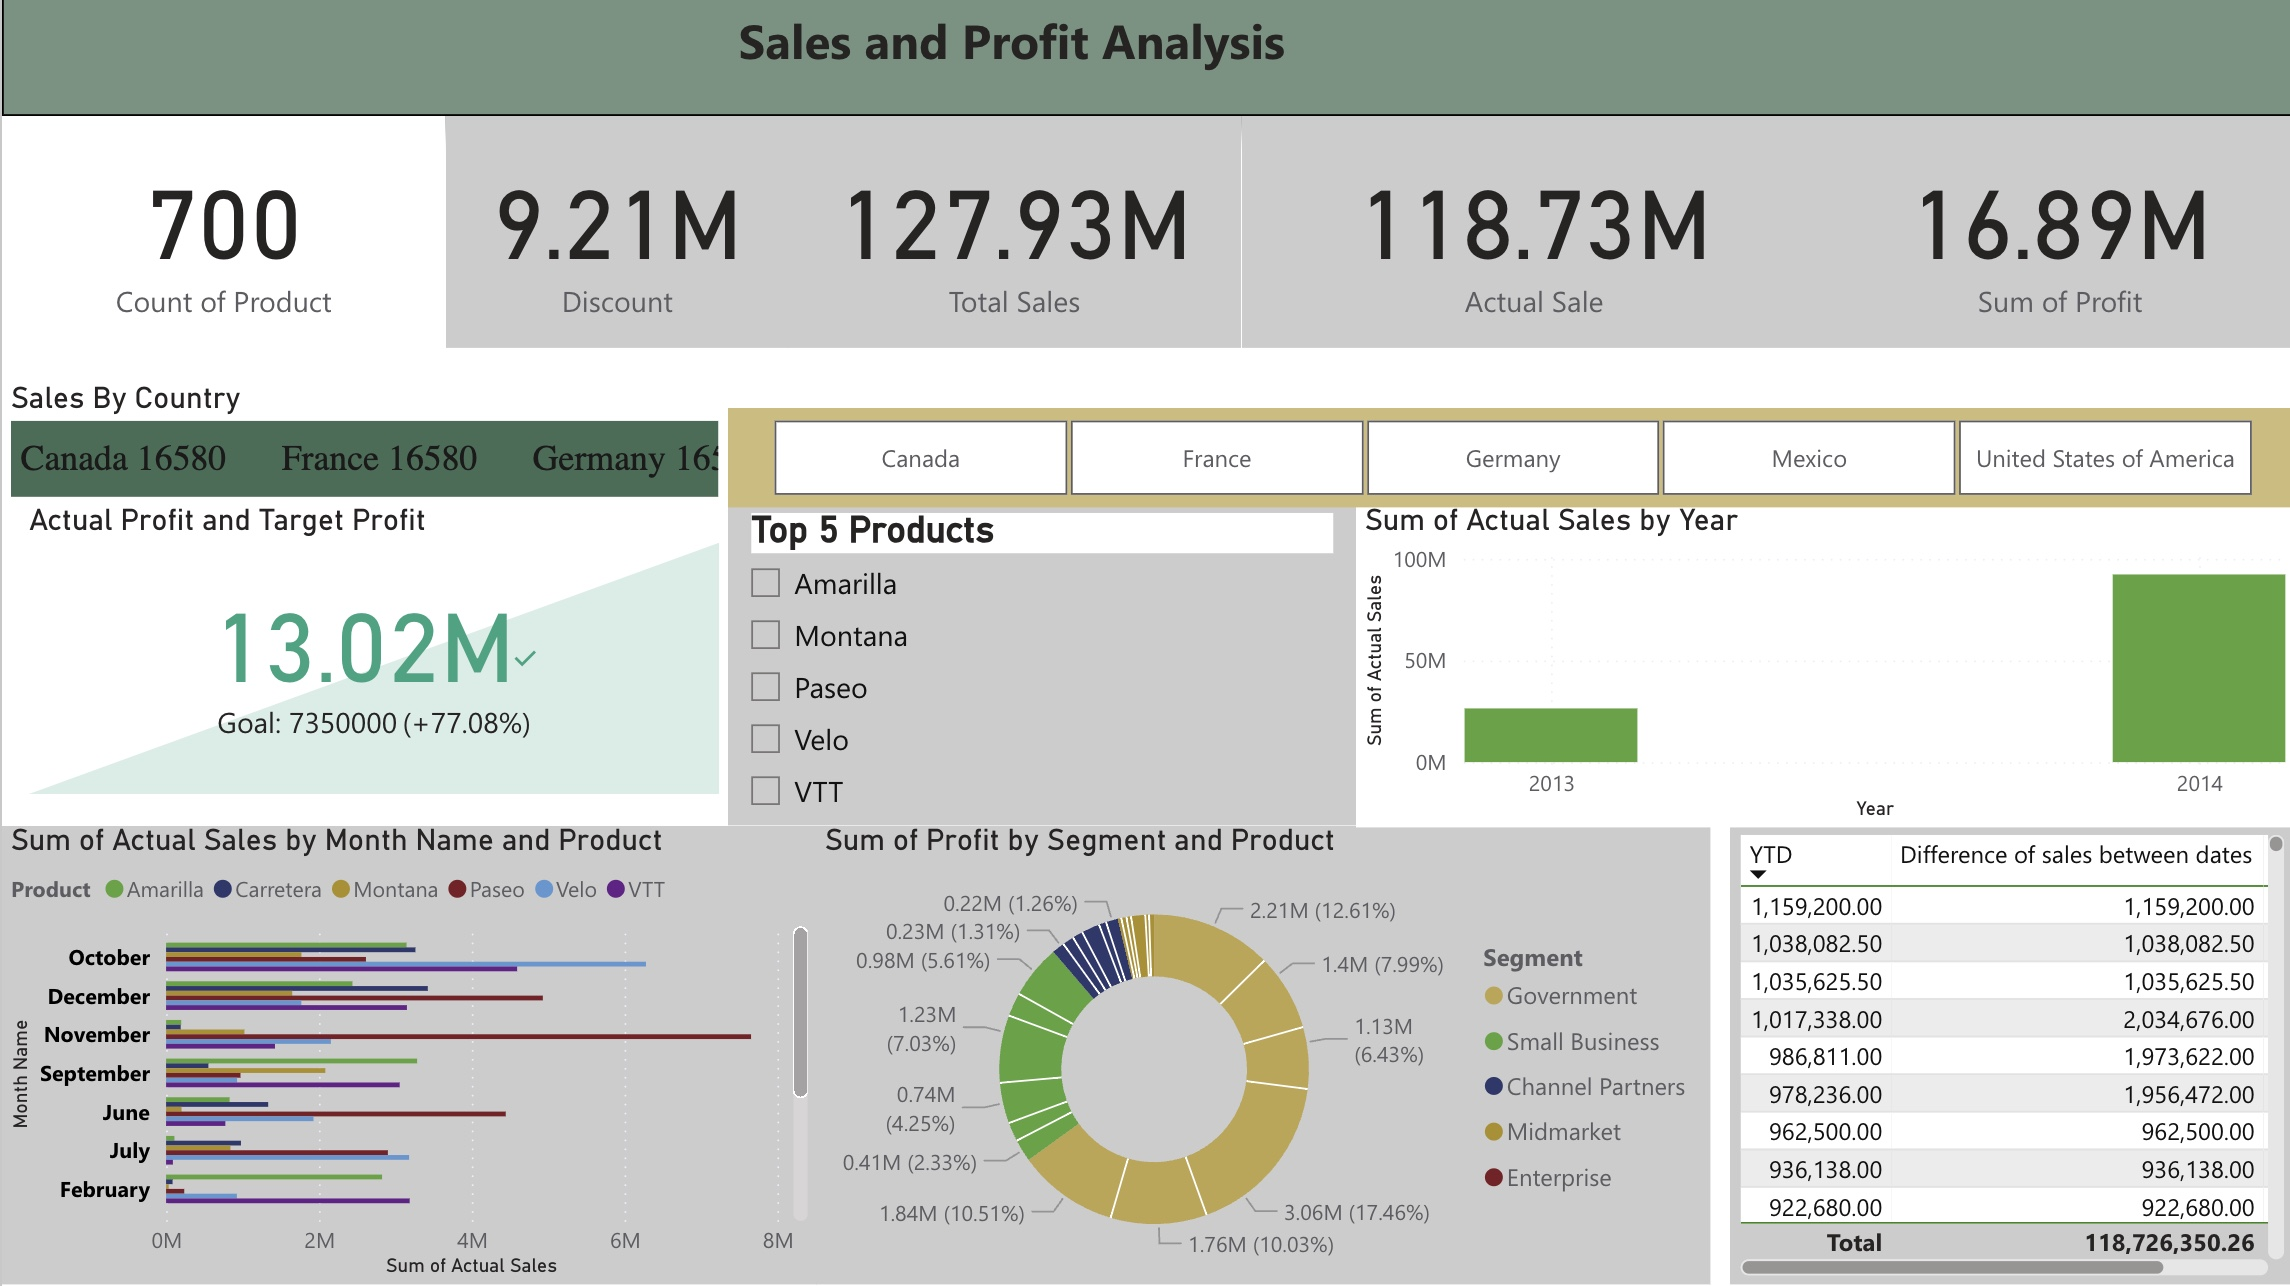

The page's visual inventory and layout, read from the dashboard file:
{"tool":"powerbi","page":{"name":"Page 1","canvas":[1280,720],"ordinal":0},"visuals":[{"type":"textbox","box":[0,0,1280,67],"z":0},{"type":"card","fields":{"Values":["CountNonNull(financials.Product)"]},"box":[0,67,247.7,129.7],"z":1000},{"type":"card","fields":{"Values":["Sum(financials.Profit)"]},"box":[1018.5,67,261.5,129.7],"z":2000},{"type":"card","title":"Actual Sales","fields":{"Values":["Sum(financials.Actual Sales)"]},"box":[692.1,67,326.4,129.7],"z":3000},{"type":"card","fields":{"Values":["Sum(financials.Discounts)"]},"box":[247.7,67,191.4,129.7],"z":4000},{"type":"kpi","title":"Actual Profit and Target Profit","fields":{"Indicator":["Sum(financials.Profit)"],"TrendLine":["Calendar.Year"],"Goal":["Sum(financials.Target Profit)"]},"box":[9.6,284.9,395.5,165.8],"z":5000},{"type":"ScrollingTextVisual1448795304508","title":"Sales By Country","fields":{"Measure Absolute":["Sum(financials.Sale Price)"],"Category":["financials.Country"]},"box":[0,216.9,405.1,68],"z":6000},{"type":"clusteredBarChart","fields":{"Series":["financials.Product"],"Category":["financials.Month Name"],"Y":["Sum(financials.Actual Sales)"]},"box":[0,463.5,455,256.2],"z":7000},{"type":"donutChart","fields":{"Category":["financials.Segment"],"Y":["Sum(financials.Profit)"],"Series":["financials.Product"]},"box":[455,463.5,499.7,256.2],"z":8000},{"type":"slicer","fields":{"Values":["financials.Product"]},"box":[405.1,283.9,350.8,179.7],"z":9000},{"type":"card","title":"Total Sales","fields":{"Values":["Sum(financials.Total Sales)"]},"box":[439.1,67,253,129.7],"z":10000},{"type":"tableEx","fields":{"Values":["financials.YTD","financials.Difference of sales between dates","Calendar.Month"]},"box":[965.3,463.5,314.7,256.2],"z":11000},{"type":"columnChart","fields":{"Y":["Sum(financials.Actual Sales)"],"Category":["financials.Year"]},"box":[755.9,284.9,524.1,179.7],"z":12000},{"type":"slicer","fields":{"Values":["financials.Country"]},"box":[405.1,229.6,875,55.3],"z":13000}]}

Visuals, with their boxes in screenshot pixels (x1, y1, x2, y2), scaled from the page's 1280x720 canvas onto the 2290x1286 screenshot:
textbox: <region>0, 0, 2289, 120</region>
card - CountNonNull(financials.Product): <region>0, 120, 443, 351</region>
card - Sum(financials.Profit): <region>1822, 120, 2289, 351</region>
"Actual Sales" card: <region>1238, 120, 1822, 351</region>
card - Sum(financials.Discounts): <region>443, 120, 786, 351</region>
"Actual Profit and Target Profit" kpi: <region>17, 509, 725, 805</region>
"Sales By Country" ScrollingTextVisual1448795304508: <region>0, 387, 725, 509</region>
clusteredBarChart - financials.Product x financials.Month Name: <region>0, 828, 814, 1285</region>
donutChart - financials.Segment x Sum(financials.Profit): <region>814, 828, 1708, 1285</region>
slicer - financials.Product: <region>725, 507, 1352, 828</region>
"Total Sales" card: <region>786, 120, 1238, 351</region>
tableEx - financials.YTD x financials.Difference of sales between dates: <region>1727, 828, 2289, 1285</region>
columnChart - Sum(financials.Actual Sales) x financials.Year: <region>1352, 509, 2289, 830</region>
slicer - financials.Country: <region>725, 410, 2289, 509</region>
